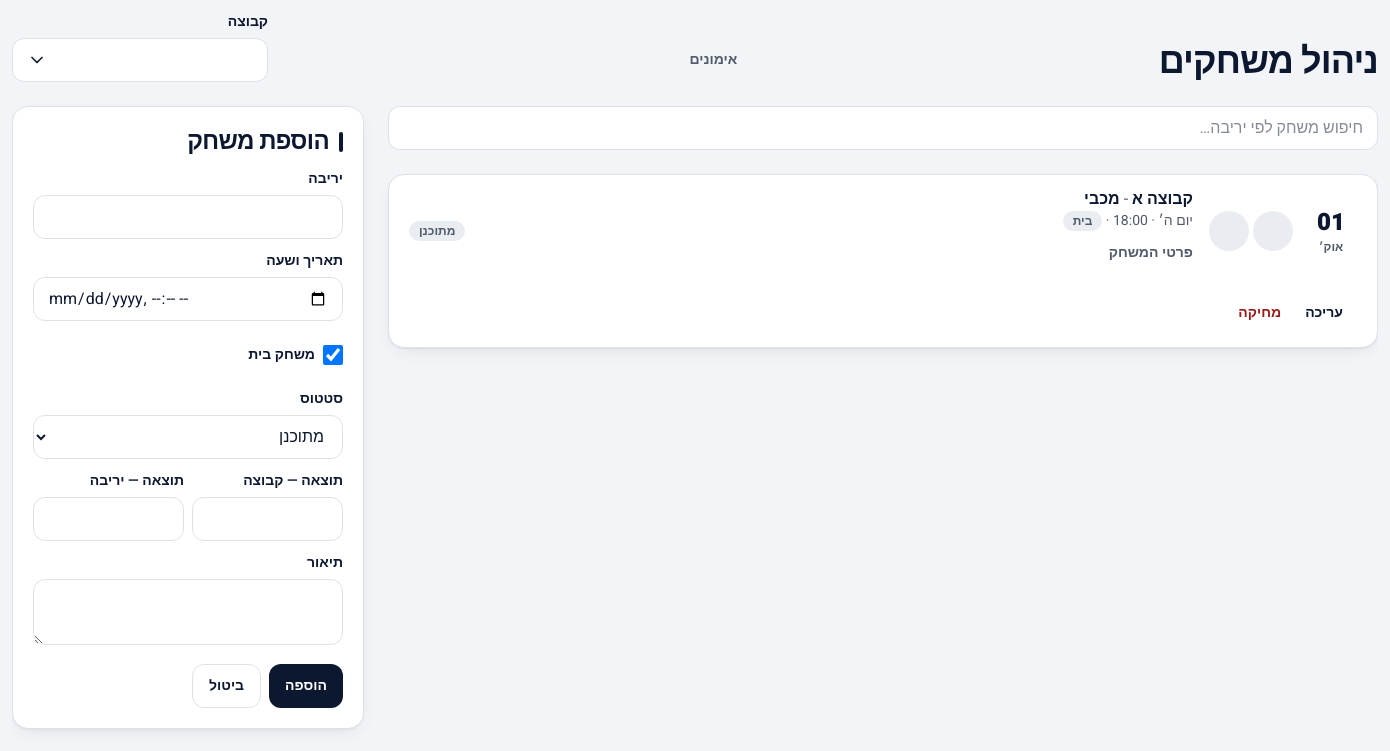
Test: AdminGamesView › a failed POST sets an error and does not add the game to the list
Type "קבוצת רפאים" into the field with id "game-opponent-name" at {"x": 188, "y": 217}, box [33, 195, 343, 239]
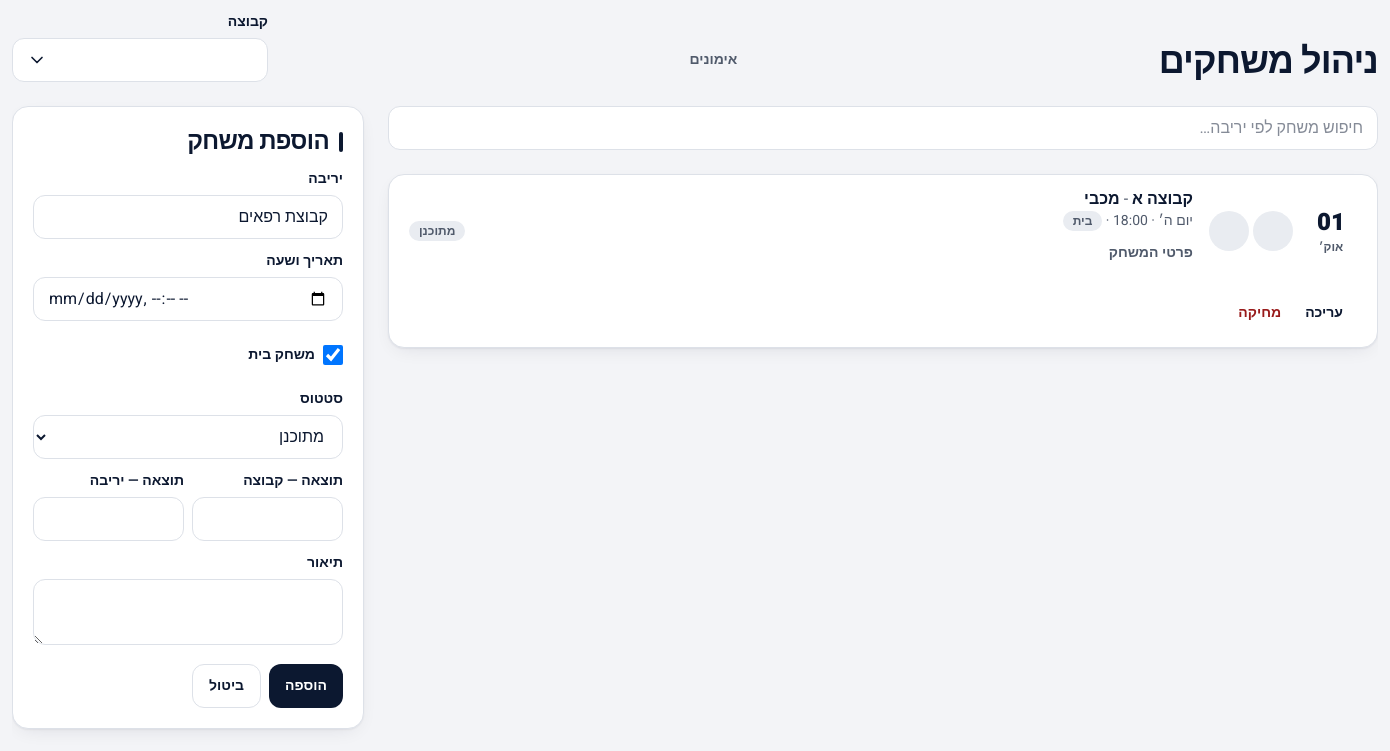
Type "2026-11-05T20:00" into the field with id "game-scheduled-at" at {"x": 188, "y": 299}, box [33, 277, 343, 321]
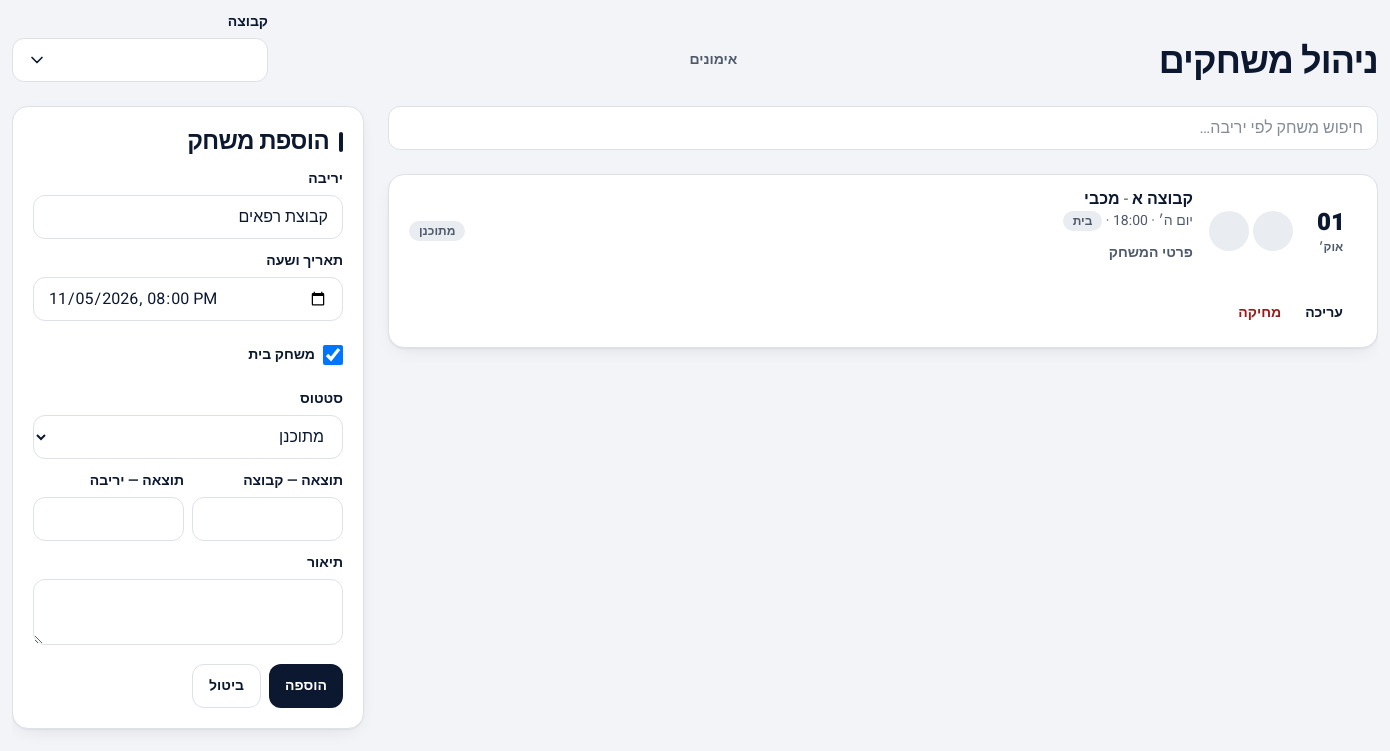
Submit the form, box [12, 106, 364, 729]
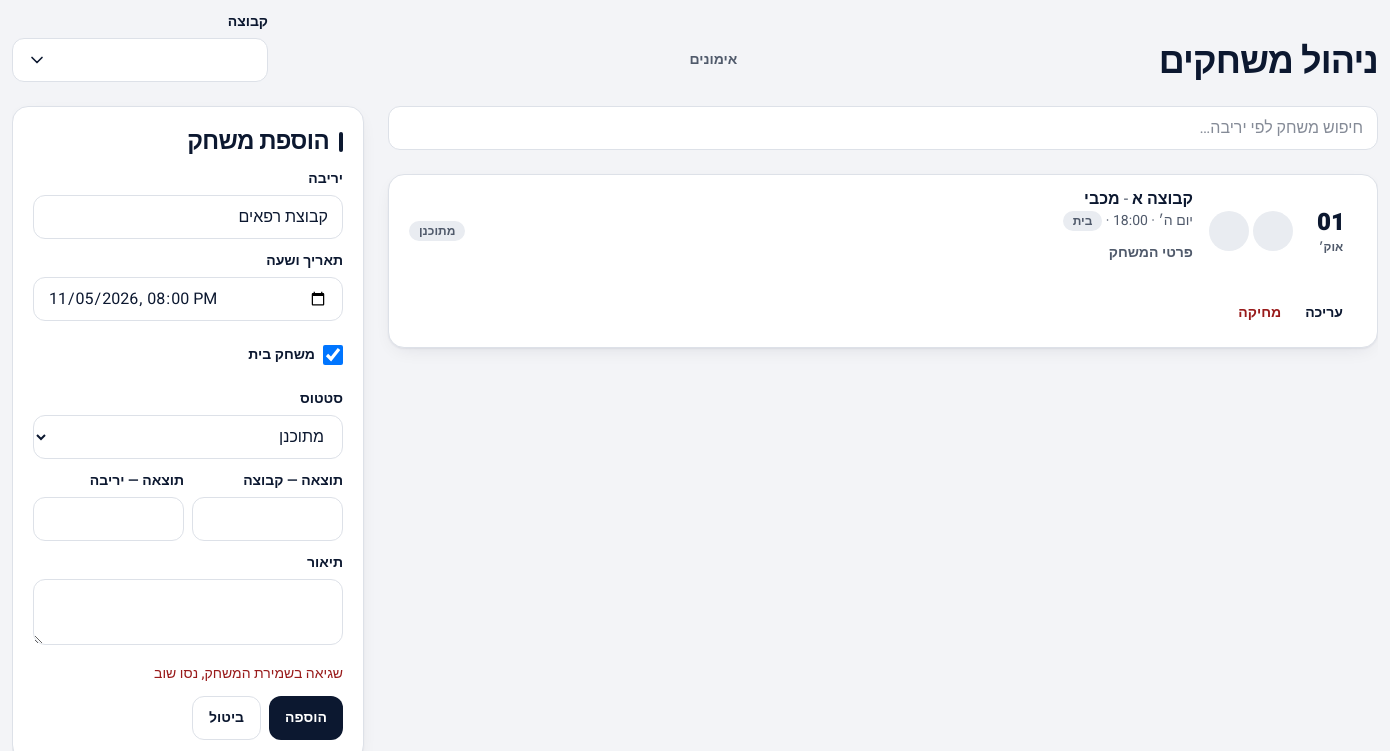
Expected: the text "קבוצת רפאים" is not shown
Expected: the text "שגיאה בשמירת המשחק, נסו שוב" is shown, [154, 663, 343, 684]
